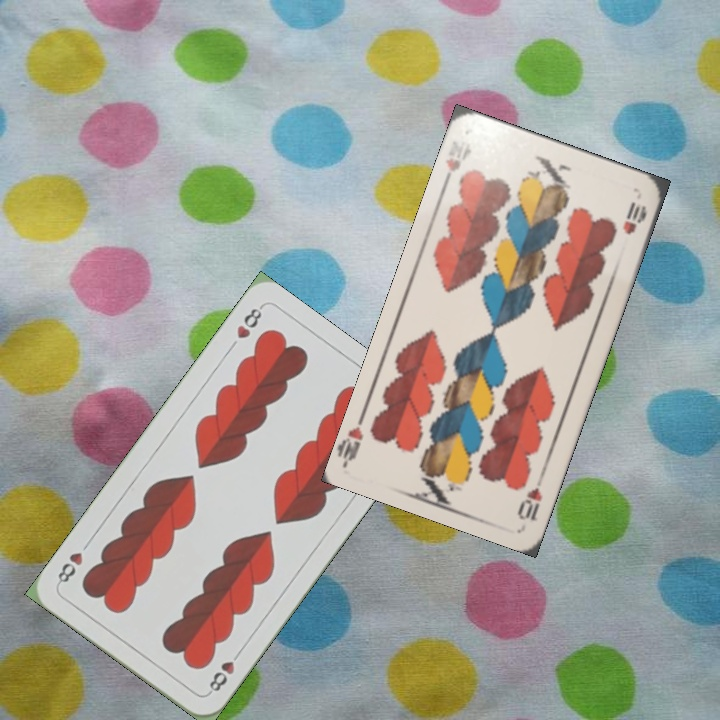H10: (513, 469, 547, 524), (438, 153, 463, 190)
H8: (204, 646, 244, 697), (232, 302, 265, 342)
